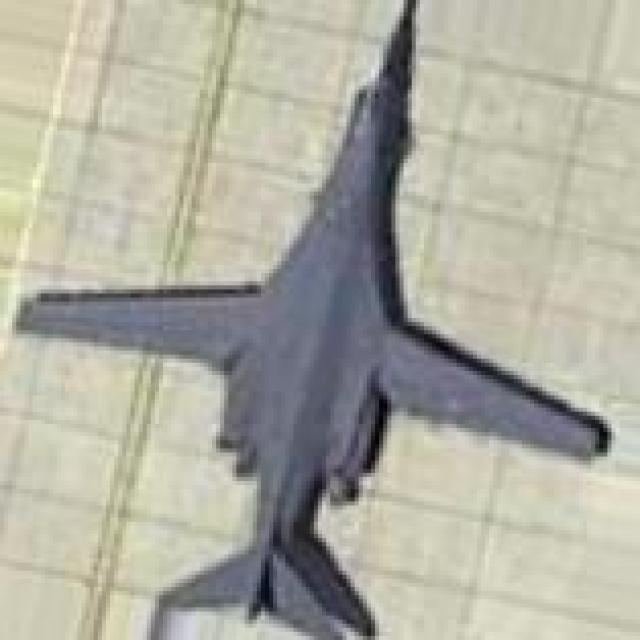B-1_TopDown: (12, 0, 612, 636)
